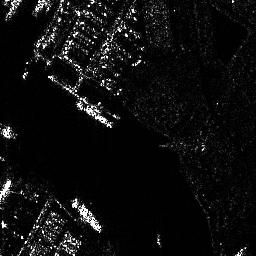ship: (69, 196, 103, 233), (74, 99, 115, 129)
